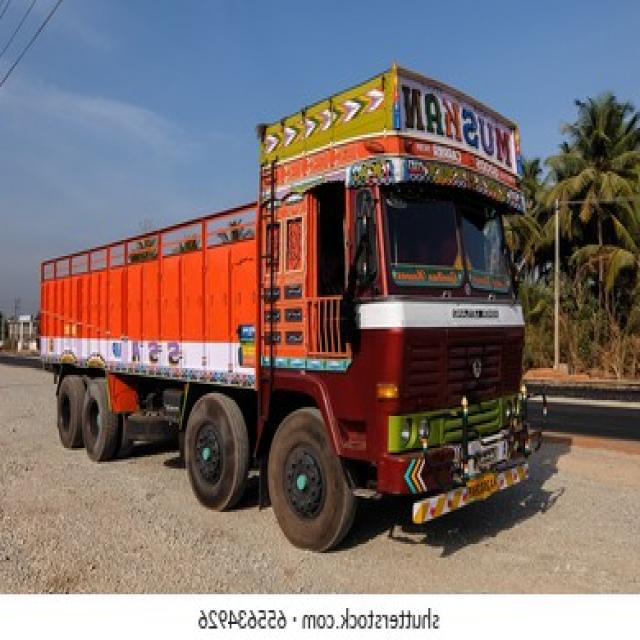truck: (40, 64, 552, 549)
